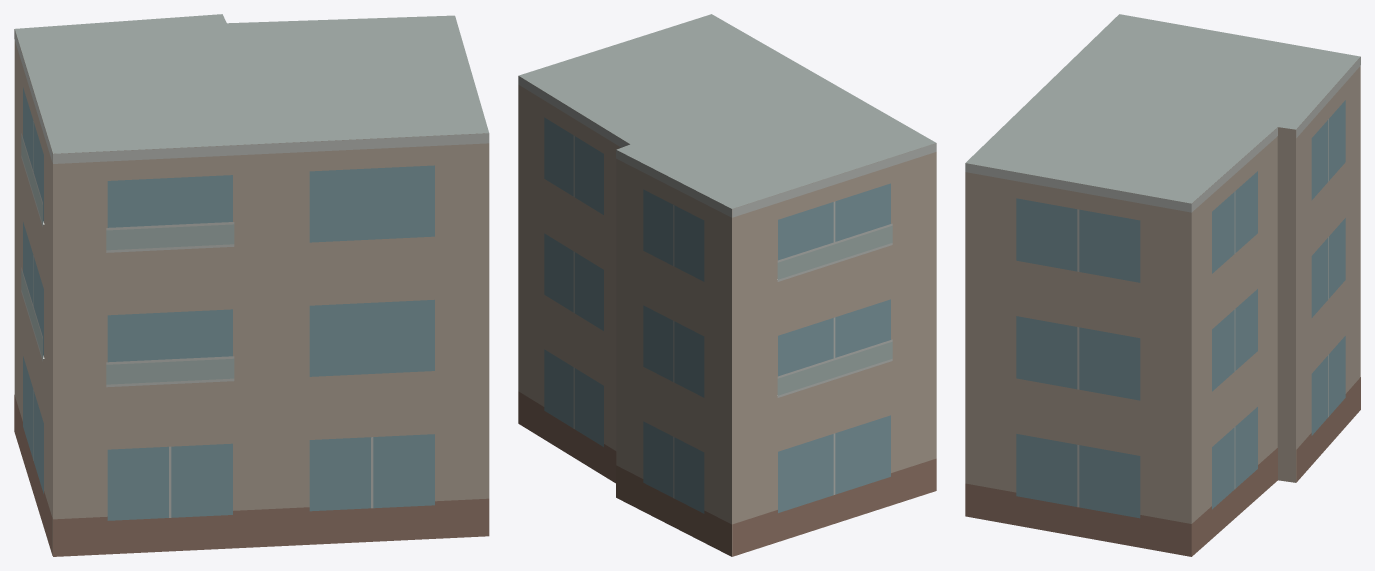
File: survey-upis-32930100.glb
3 views of the same model, side by side, from view 1: azimuth 30°, elevation 25°; view 2: azimuth 150°, elevation 25°; view 3: azimuth 270°, elevation 25° (orthographic). The views are drawn at different scales.
Parts seen in each view (by area): view 1: survey-upis-32930100.tmp; view 2: survey-upis-32930100.tmp; view 3: survey-upis-32930100.tmp.
Part boxes in pixels (x1,y1,x2,y2): survey-upis-32930100.tmp: (14,14,489,556); survey-upis-32930100.tmp: (518,14,936,556); survey-upis-32930100.tmp: (965,14,1360,556).
Size of the model in its own units: 11.06 by 9.6 by 9.75.
